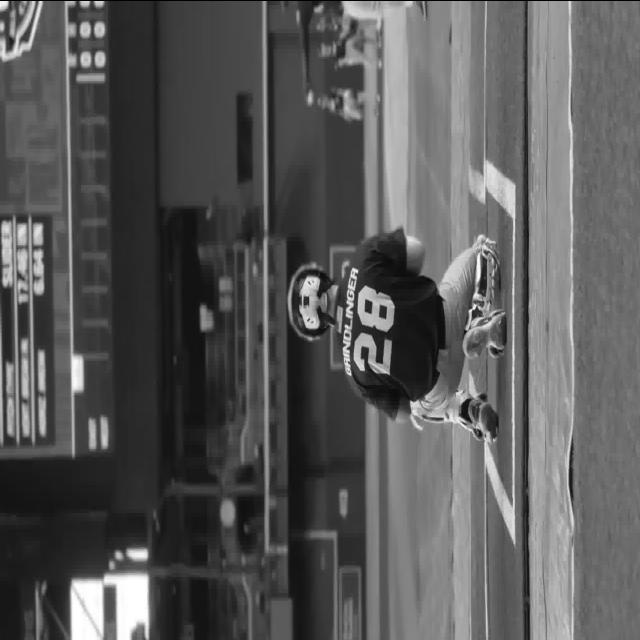shoe: (462, 309, 506, 359), (470, 241, 500, 313), (458, 393, 498, 443), (415, 1, 427, 21)
